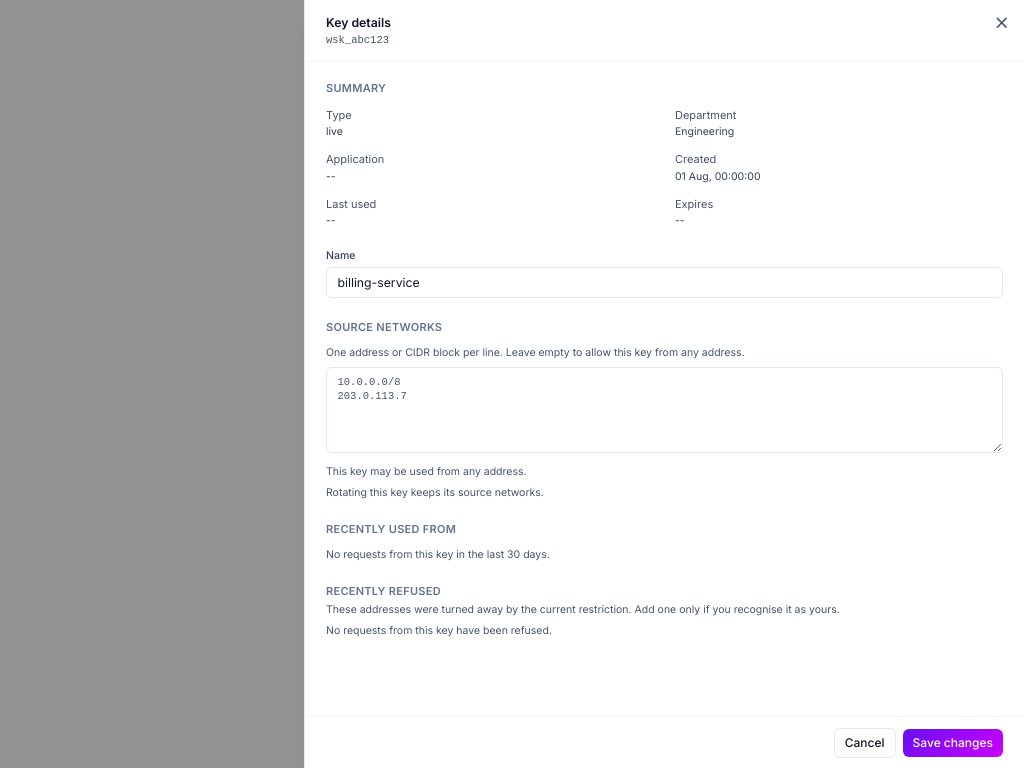
Test: KeyDetailDrawer › refuses to send a malformed entry
The width and height of the screenshot is (1024, 768).
Type "not-an-ip" into the text box named "Source networks". click: (664, 410)
box: x1=326 y1=367 x2=1003 y2=453
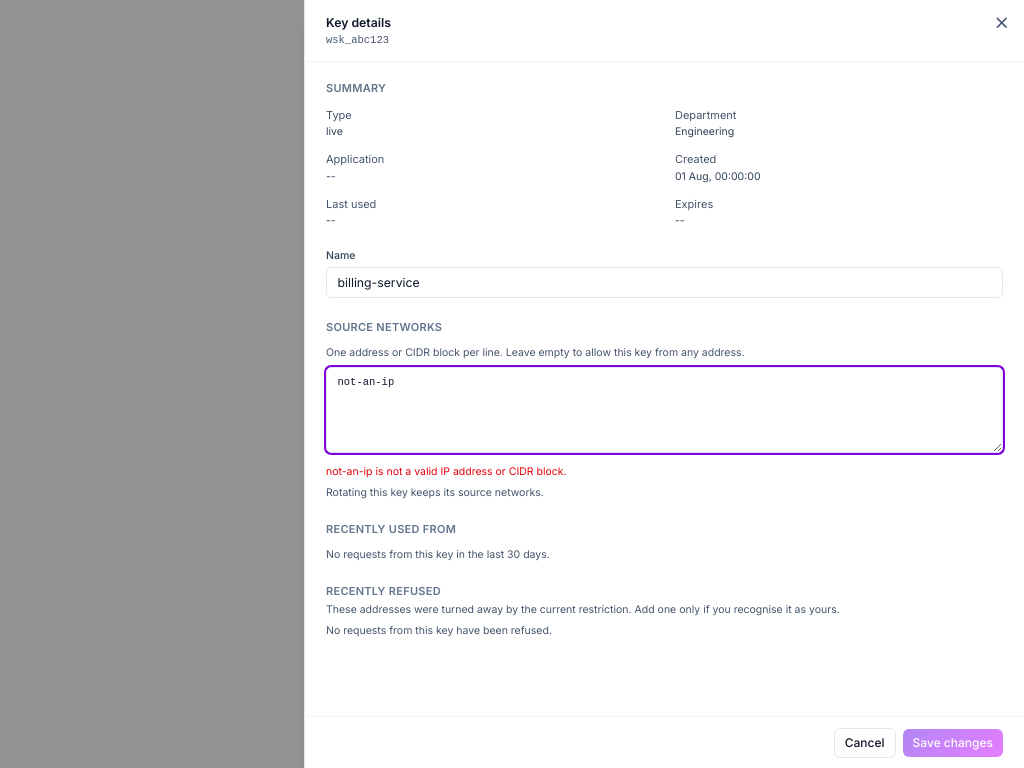
expect the list item "not-an-ip is not a valid IP address or CIDR block." is shown: met, box x1=326 y1=465 x2=567 y2=478
expect the button "Save changes" is disabled: met, box x1=903 y1=728 x2=1003 y2=756
